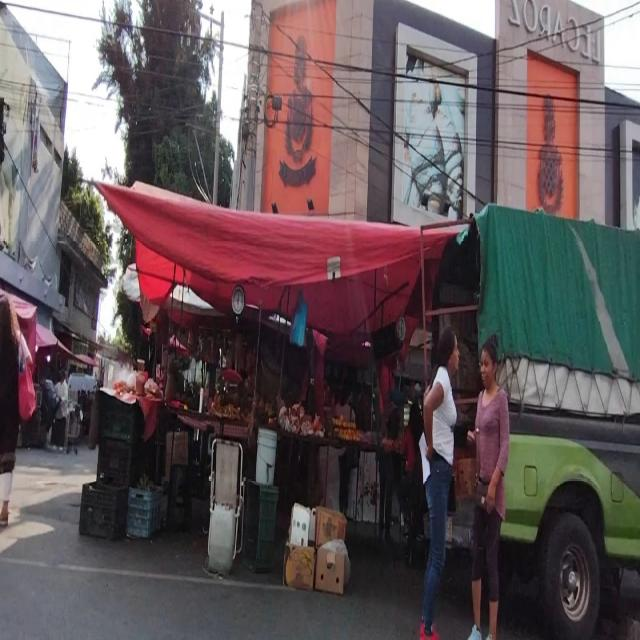adult: (468, 335, 509, 640), (422, 324, 461, 640), (0, 292, 33, 526)
